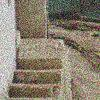stairs: (7, 56, 64, 100)
